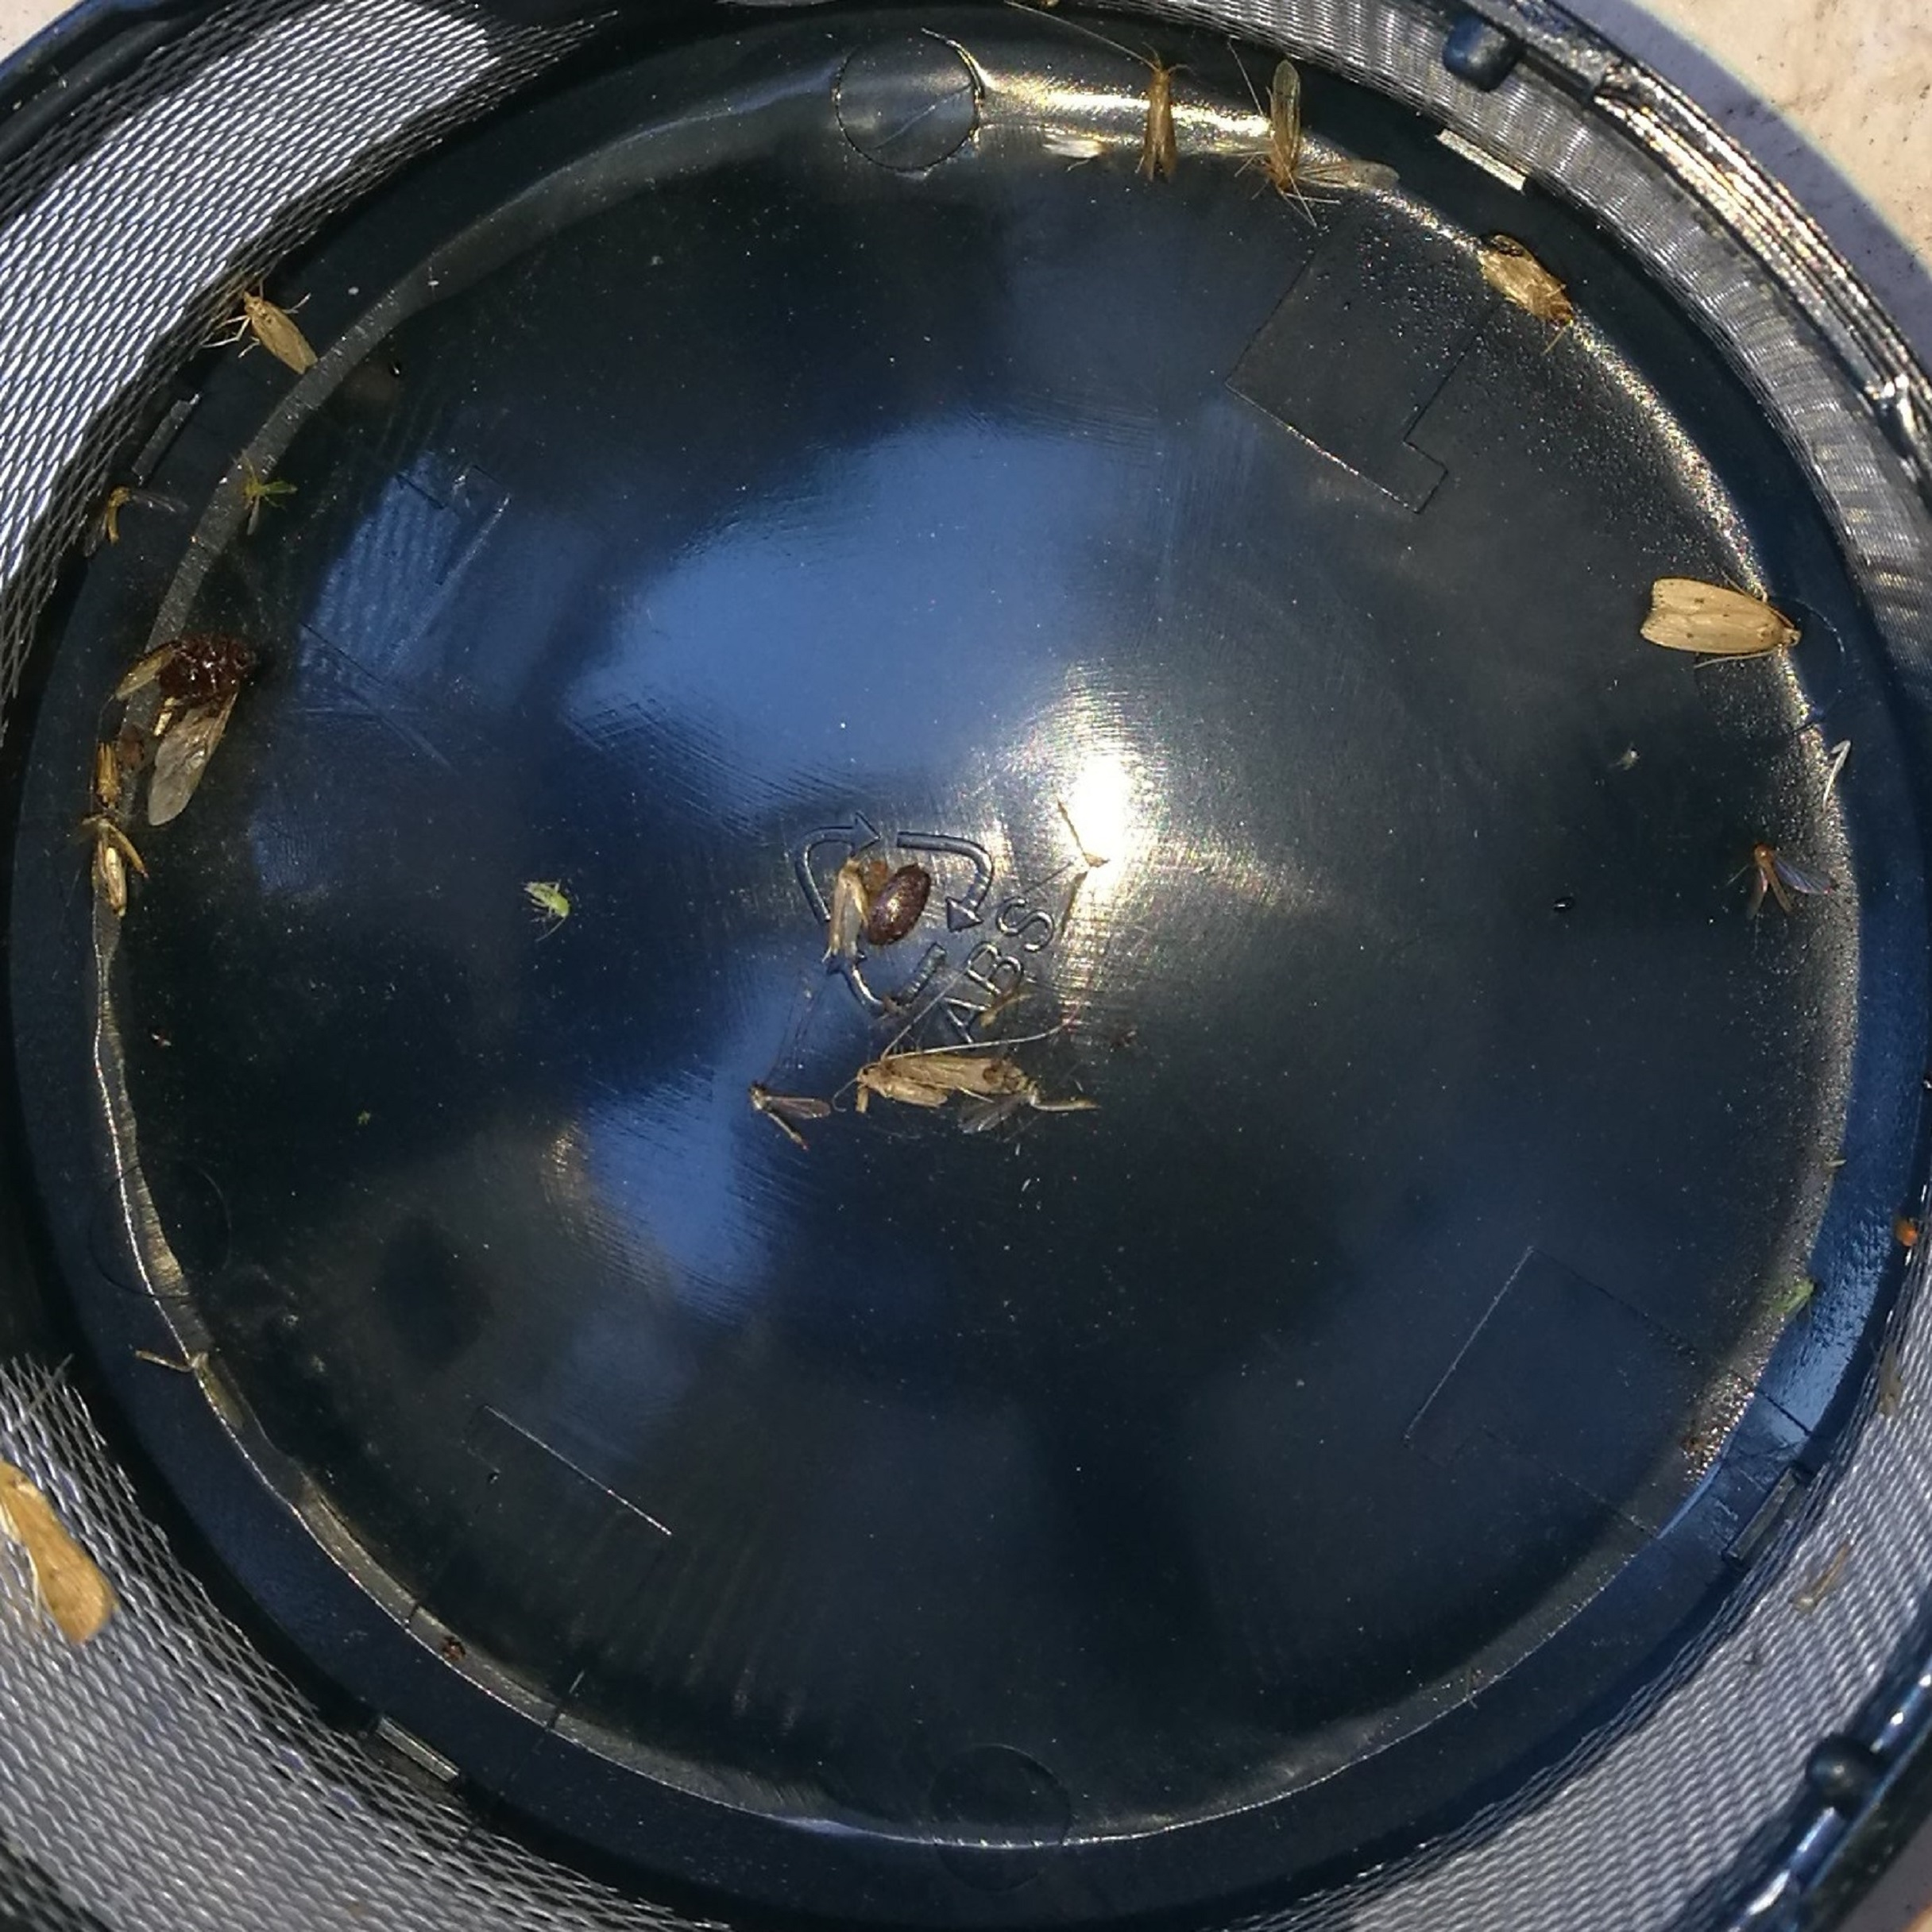mosquito: (0, 1467, 110, 1647), (1267, 58, 1398, 196), (860, 1053, 1035, 1106), (1481, 257, 1576, 326), (1746, 849, 1835, 920), (241, 288, 311, 370), (1143, 69, 1180, 177), (832, 856, 867, 959), (103, 849, 129, 913), (96, 747, 120, 803)
moth: (1644, 577, 1803, 662)
